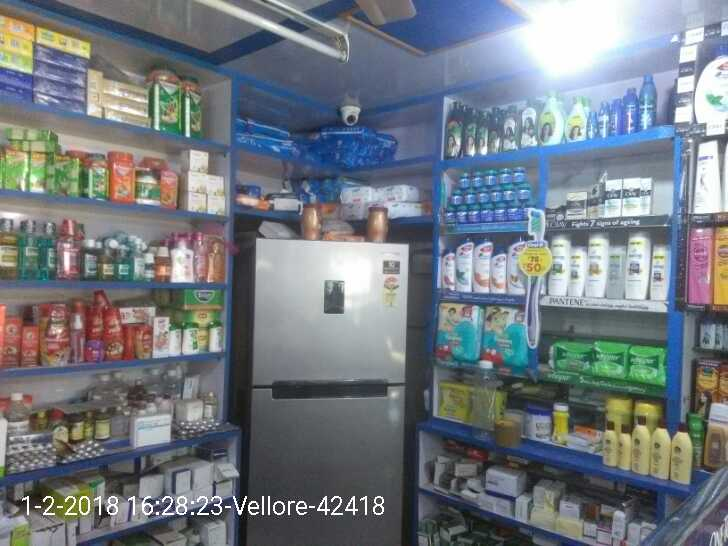vicks: (443, 164, 537, 228)
